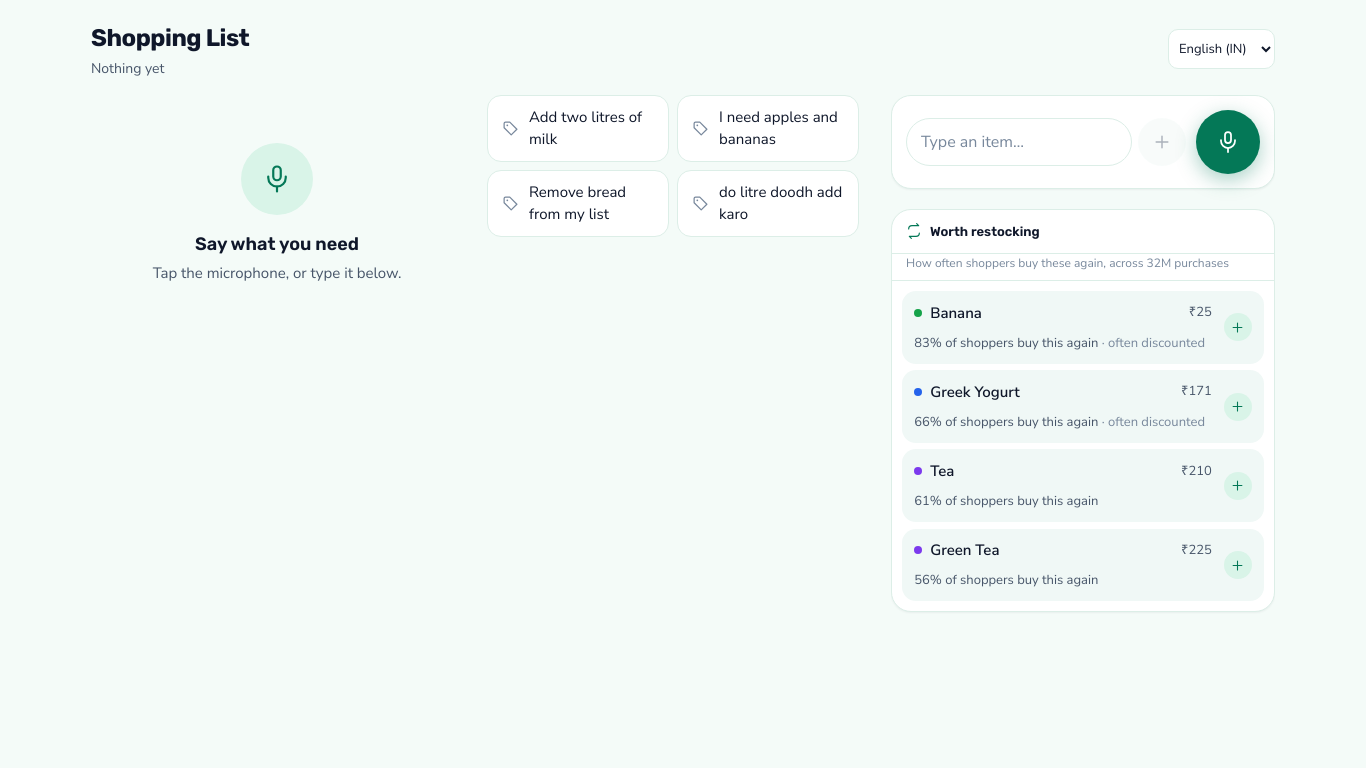
Test case: degradation › asks for a rephrase rather than acting on speech it did not understand
This screenshot has width=1366, height=768.
Click the button named "Start listening".
click(1228, 142)  # box [1196, 110, 1260, 174]
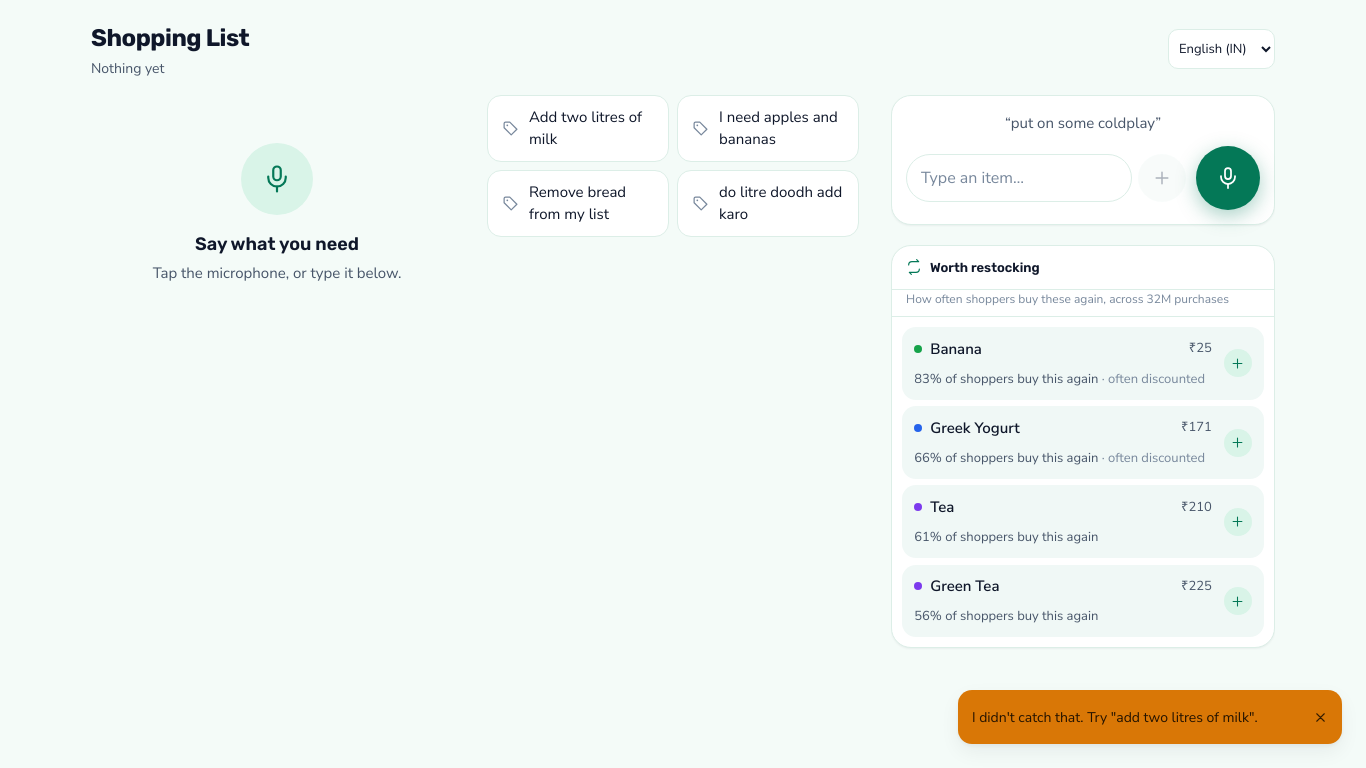
expect the text "I didn't catch that. Try \"add two litres of milk\"." is shown: met, box [972, 707, 1300, 728]
